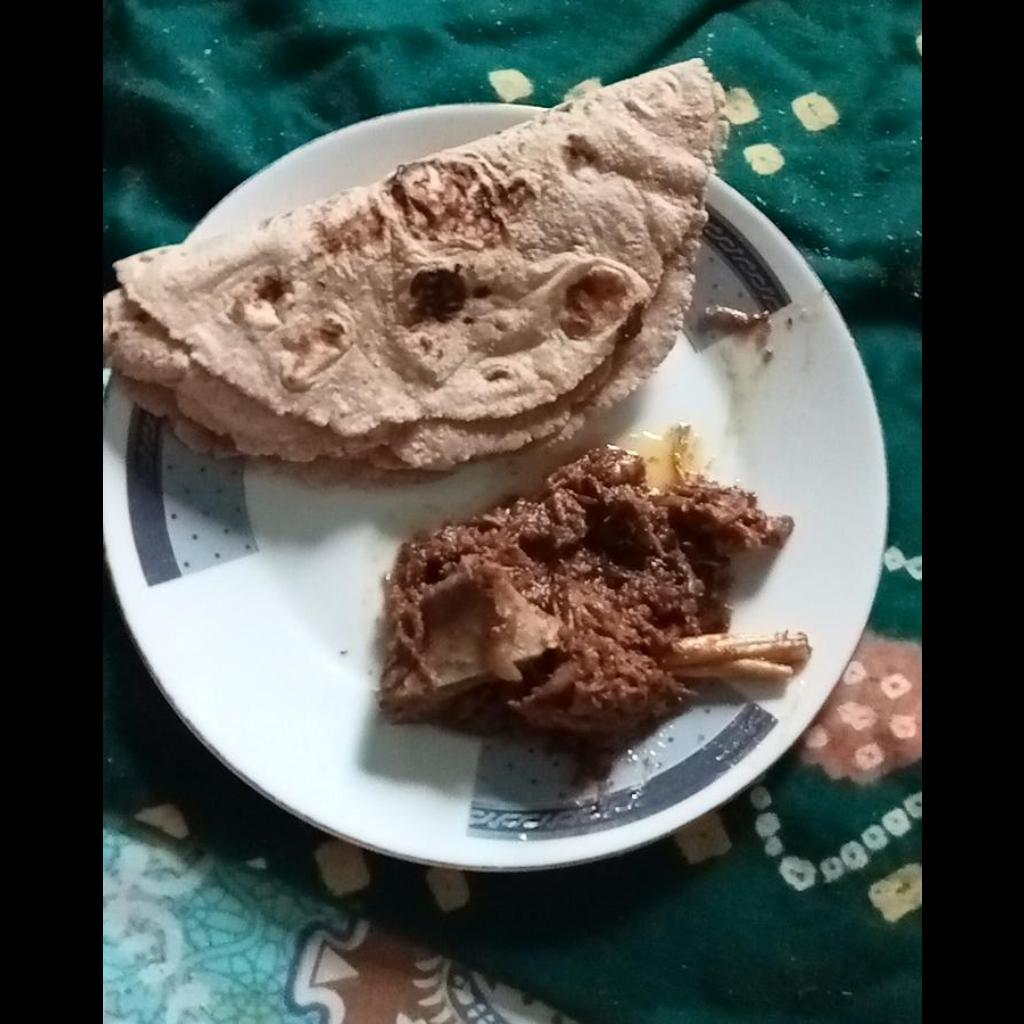chicken: (370, 446, 814, 744)
ruti: (102, 52, 722, 480)
